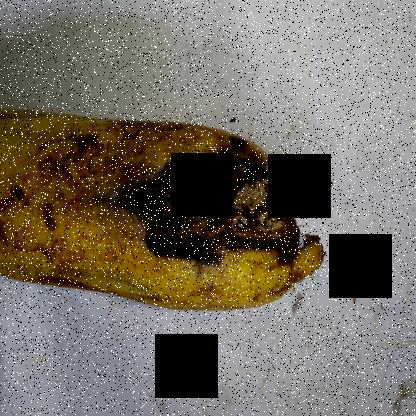ripe: (1, 89, 353, 309)
rotten: (97, 131, 335, 316)
